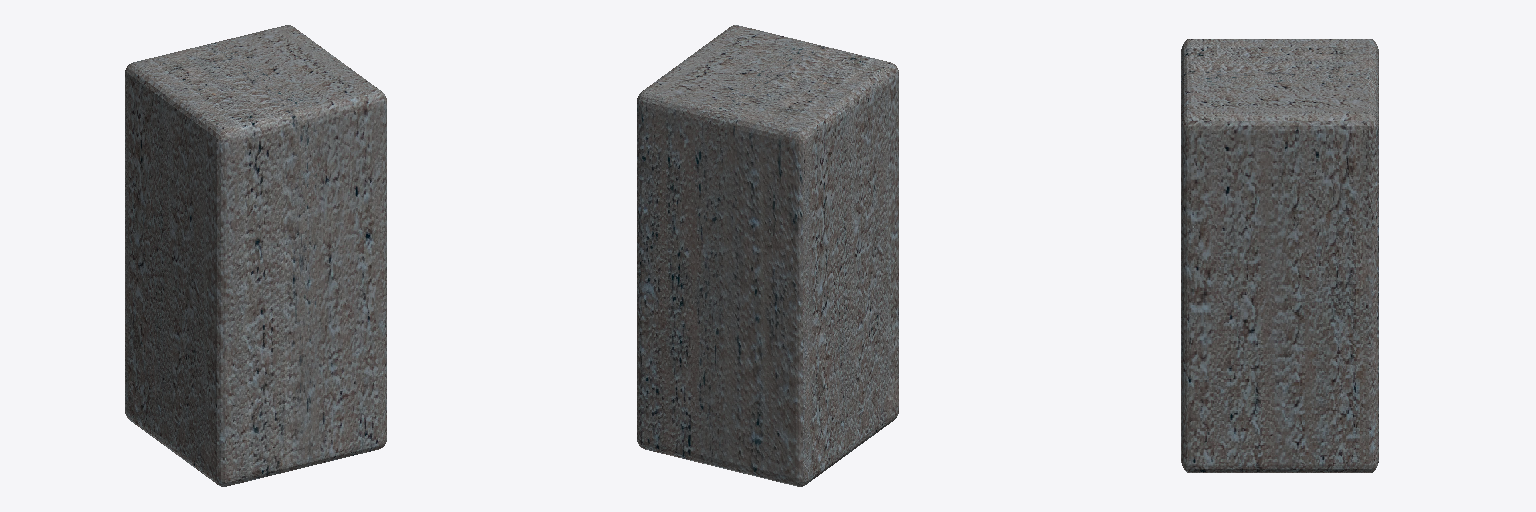
3 views of the same model, side by side, from view 1: azimuth 30°, elevation 25°; view 2: azimuth 150°, elevation 25°; view 3: azimuth 270°, elevation 25° (orthographic).
Parts seen in each view (by area): view 1: BigBldg; view 2: BigBldg; view 3: BigBldg.
Part boxes in pixels (left/top/right/bottom): BigBldg: left=125, top=25, right=386, bottom=486; BigBldg: left=637, top=25, right=898, bottom=486; BigBldg: left=1181, top=39, right=1378, bottom=472.
Bounding box in the file's own units: 200 × 400 × 200.
Materials: 1 (1 with a texture image).